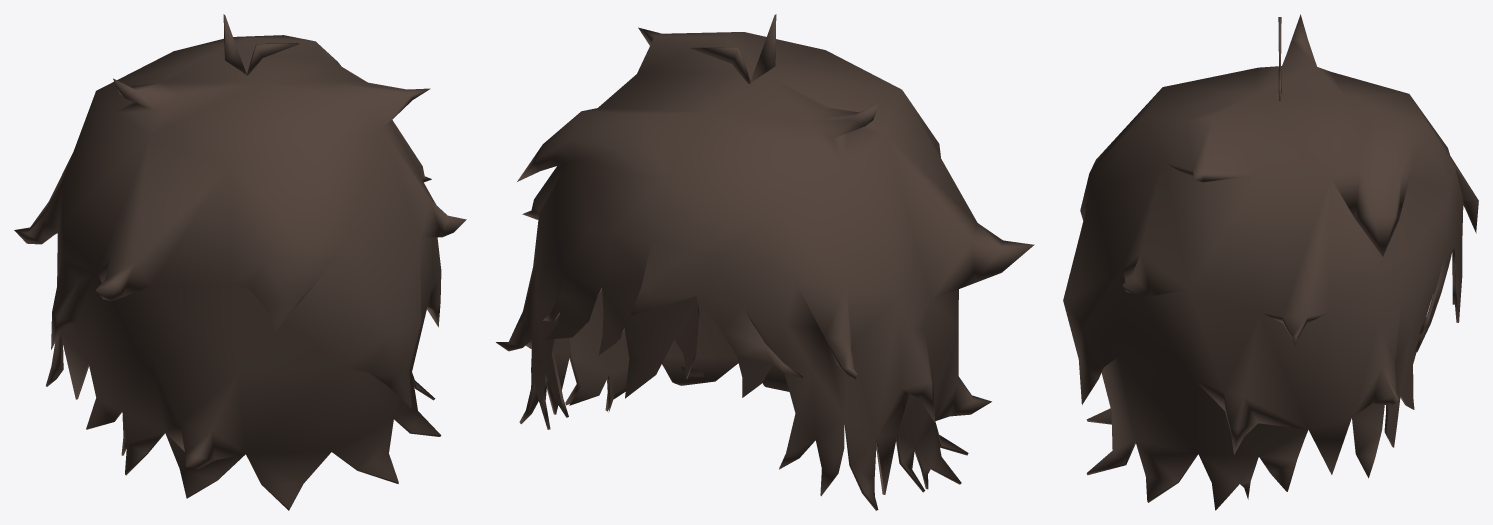
The model's file is 09-Low-Poly-Fluffy-Messy-Boy-Hair-Brown-86495776285585.glb.
3 renders of one model, left to right at view 1: azimuth 30°, elevation 25°; view 2: azimuth 150°, elevation 25°; view 3: azimuth 270°, elevation 25°, orthographic. The views are drawn at different scales.
Parts seen in each view (by area): view 1: Low-Poly-Fluffy-Messy-Boy-Hair-Brown; view 2: Low-Poly-Fluffy-Messy-Boy-Hair-Brown; view 3: Low-Poly-Fluffy-Messy-Boy-Hair-Brown.
Part boxes in pixels (x1,y1,x2,y2): Low-Poly-Fluffy-Messy-Boy-Hair-Brown: (14,14,466,510); Low-Poly-Fluffy-Messy-Boy-Hair-Brown: (496,14,1034,510); Low-Poly-Fluffy-Messy-Boy-Hair-Brown: (1063,14,1478,510).
Bounding box in the file's own units: 1.82 × 1.84 × 1.65.
Materials: 1 (1 with a texture image).
